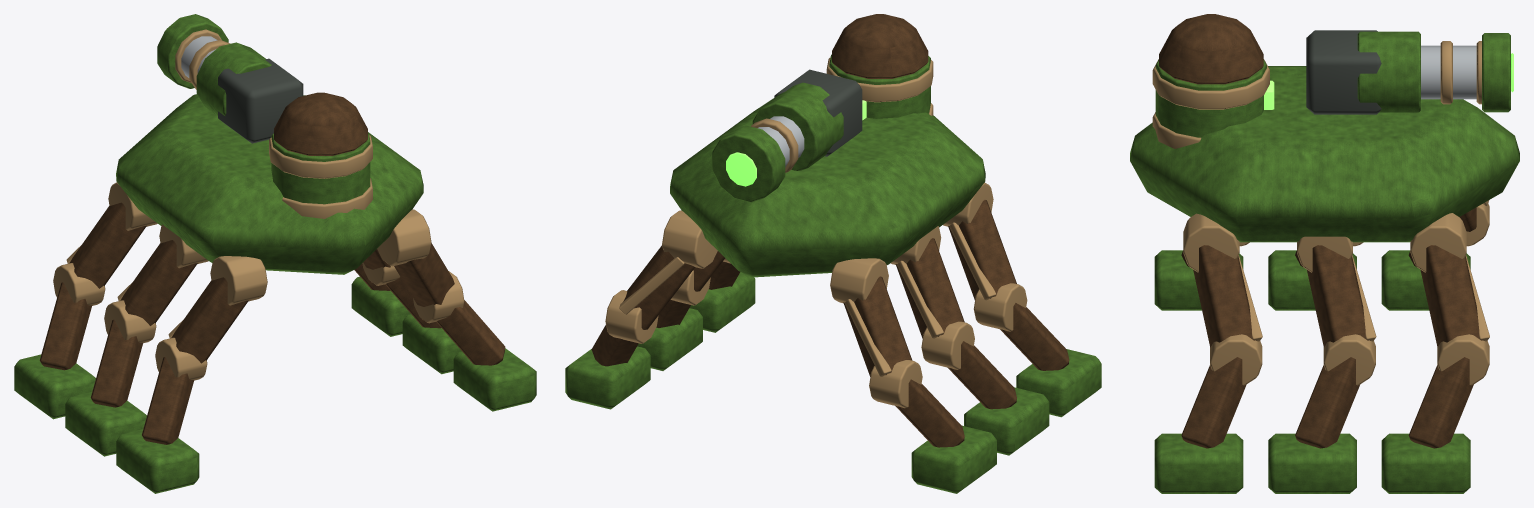
Rendered from vael_tarentule.gltf.
The picture shows the model from 3 angles, left to right: view 1: azimuth 30°, elevation 25°; view 2: azimuth 150°, elevation 25°; view 3: azimuth 270°, elevation 25°; orthographic projection. The views are drawn at different scales.
Parts seen in each view (by area): view 1: Body_Geometry, GunRecoil.007_Geometry, Hip_L0_Geometry, GunPitch.011_Geometry, Hip_L2_Geometry, Hip_R0_Geometry, Hip_L1_Geometry, Knee_L0_Geometry, Knee_L1_Geometry, Knee_L2_Geometry, Foot_L0_Geometry, Foot_R0_Geometry (+6 smaller); view 2: Body_Geometry, GunRecoil.007_Geometry, Hip_L2_Geometry, Hip_R2_Geometry, Hip_L0_Geometry, Hip_L1_Geometry, Knee_L2_Geometry, Knee_L0_Geometry, Knee_L1_Geometry, Foot_L2_Geometry, Foot_R2_Geometry, Foot_L1_Geometry (+7 smaller); view 3: Body_Geometry, GunRecoil.007_Geometry, Hip_R2_Geometry, Hip_R0_Geometry, Hip_R1_Geometry, GunPitch.011_Geometry, Knee_R0_Geometry, Knee_R1_Geometry, Knee_R2_Geometry, Foot_R0_Geometry, Foot_R2_Geometry, Foot_R1_Geometry (+4 smaller).
Part boxes in pixels (<box>): Body_Geometry: <box>116,92,423,274</box>; GunRecoil.007_Geometry: <box>157,14,271,115</box>; Hip_L0_Geometry: <box>168,256,267,363</box>; GunPitch.011_Geometry: <box>218,58,303,143</box>; Hip_L2_Geometry: <box>66,182,157,288</box>; Hip_R0_Geometry: <box>377,209,454,306</box>; Hip_L1_Geometry: <box>117,224,208,325</box>; Knee_L0_Geometry: <box>142,337,207,444</box>; Knee_L1_Geometry: <box>90,300,156,407</box>; Knee_L2_Geometry: <box>39,263,105,370</box>; Foot_L0_Geometry: <box>116,429,199,493</box>; Foot_R0_Geometry: <box>453,348,536,411</box>; Body_Geometry: <box>670,14,985,277</box>; GunRecoil.007_Geometry: <box>712,82,843,202</box>; Hip_L2_Geometry: <box>830,258,912,376</box>; Hip_R2_Geometry: <box>619,210,717,329</box>; Hip_L0_Geometry: <box>943,182,1016,300</box>; Hip_L1_Geometry: <box>890,226,964,338</box>; Knee_L2_Geometry: <box>869,360,964,447</box>; Knee_L0_Geometry: <box>973,283,1069,370</box>; Knee_L1_Geometry: <box>921,321,1016,409</box>; Foot_L2_Geometry: <box>911,425,996,493</box>; Foot_R2_Geometry: <box>565,346,650,409</box>; Foot_L1_Geometry: <box>964,387,1049,455</box>; Body_Geometry: <box>1130,14,1519,242</box>; GunRecoil.007_Geometry: <box>1357,31,1513,112</box>; Hip_R2_Geometry: <box>1410,213,1489,347</box>; Hip_R0_Geometry: <box>1183,213,1262,347</box>; Hip_R1_Geometry: <box>1297,236,1376,347</box>; GunPitch.011_Geometry: <box>1306,30,1381,114</box>; Knee_R0_Geometry: <box>1181,334,1262,448</box>; Knee_R1_Geometry: <box>1295,334,1375,448</box>; Knee_R2_Geometry: <box>1408,334,1489,448</box>; Foot_R0_Geometry: <box>1154,433,1243,493</box>; Foot_R2_Geometry: <box>1381,433,1470,493</box>; Foot_R1_Geometry: <box>1268,433,1356,493</box>.
Bounding box in the file's own units: 2.41 × 1.99 × 1.89.
Materials: 6 (2 with a texture image).
